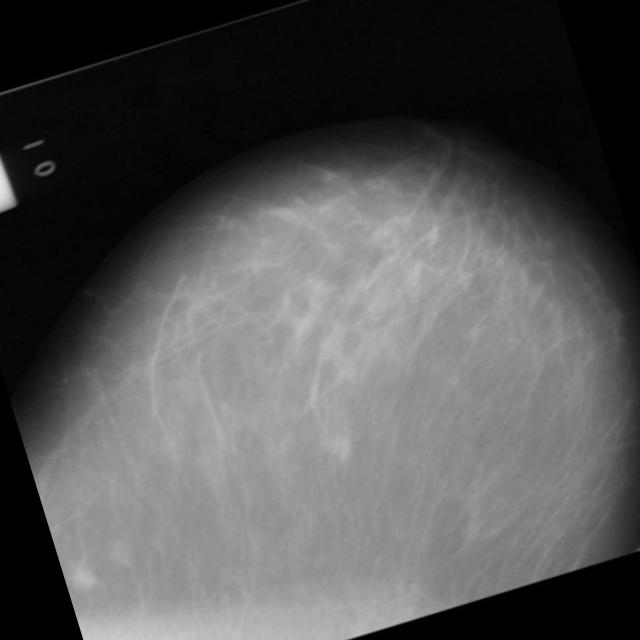MISC: (61, 552, 106, 597)
